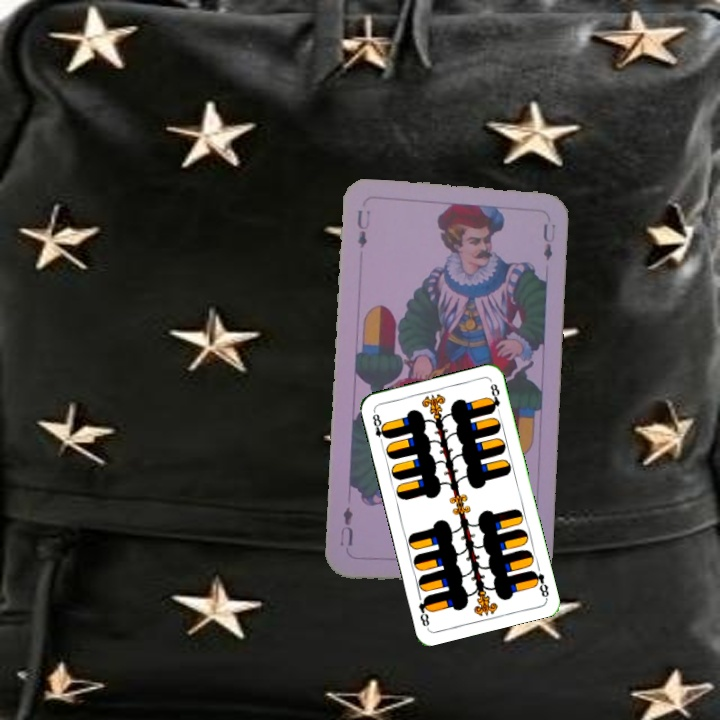E8: (368, 407, 390, 447), (528, 566, 552, 601)
EU: (353, 205, 372, 251)
